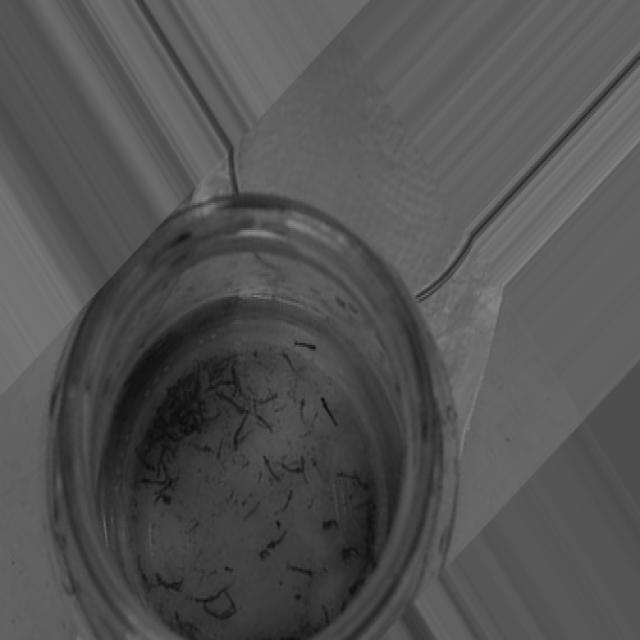larvas: (233, 411, 250, 451), (338, 470, 369, 490), (198, 584, 229, 602), (253, 408, 274, 433), (215, 352, 236, 375), (216, 393, 242, 410), (205, 379, 239, 392), (157, 575, 182, 592), (281, 354, 299, 376), (310, 456, 328, 478), (134, 450, 153, 470), (321, 397, 335, 424), (264, 456, 280, 479), (233, 364, 245, 393), (290, 562, 312, 577), (279, 490, 293, 512), (280, 462, 302, 476), (318, 604, 332, 626), (342, 542, 360, 559), (157, 442, 166, 476), (366, 530, 374, 568), (254, 391, 277, 404), (295, 340, 316, 354), (268, 533, 288, 547), (140, 476, 168, 486), (173, 612, 186, 633), (222, 600, 237, 618), (167, 428, 185, 443), (355, 497, 375, 510), (204, 606, 222, 620), (201, 413, 220, 426), (138, 556, 148, 580), (153, 494, 172, 506), (349, 580, 365, 594), (300, 458, 310, 480), (160, 478, 173, 494), (246, 503, 258, 520), (192, 442, 210, 453), (323, 514, 336, 528), (300, 397, 306, 427), (187, 417, 194, 436), (218, 436, 222, 458)
